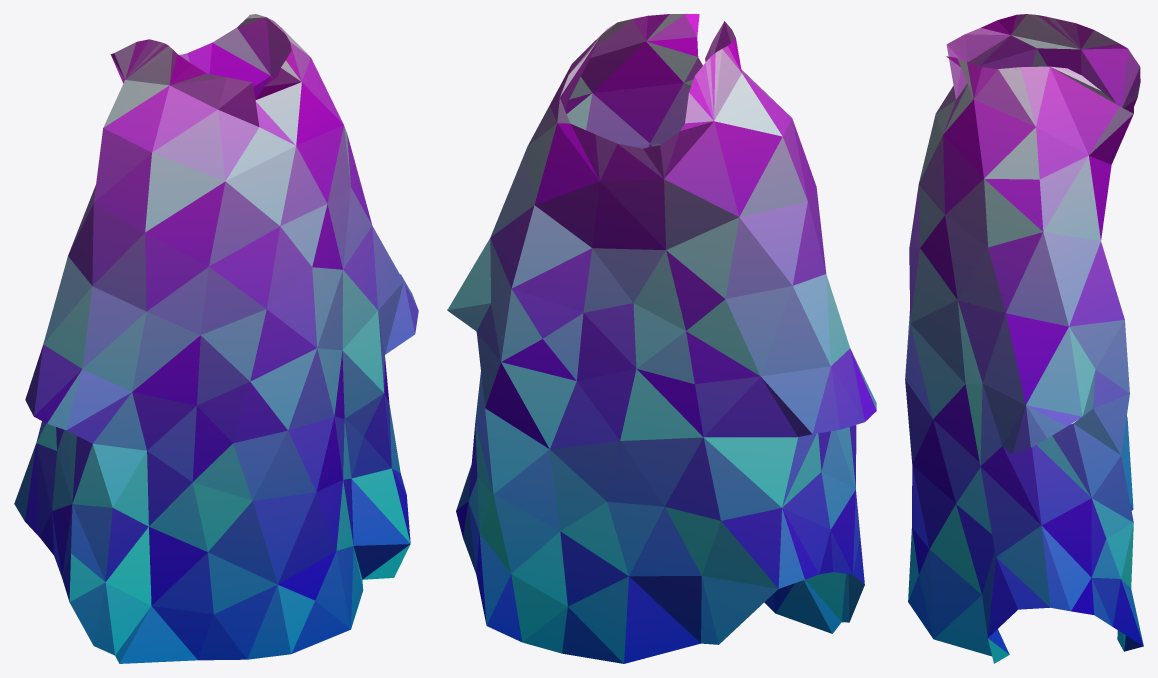
File: camouflage_base 1.fbx
3 views of the same model, side by side, from view 1: azimuth 30°, elevation 25°; view 2: azimuth 150°, elevation 25°; view 3: azimuth 270°, elevation 25° (orthographic). The views are drawn at different scales.
Parts seen in each view (by area): view 1: autouv1; view 2: autouv1; view 3: autouv1.
Boxes of the visible parts, x1,y1,x2,y2 form: autouv1: (14, 14, 418, 663); autouv1: (447, 14, 876, 663); autouv1: (905, 14, 1143, 663).
Size of the model in its own units: 34.37 by 49.47 by 18.7.
